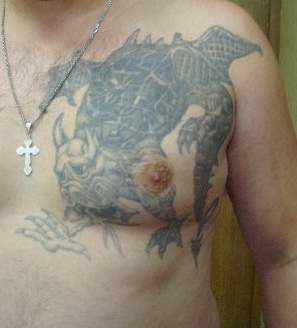tatu6_drakon: (15, 18, 261, 282)
